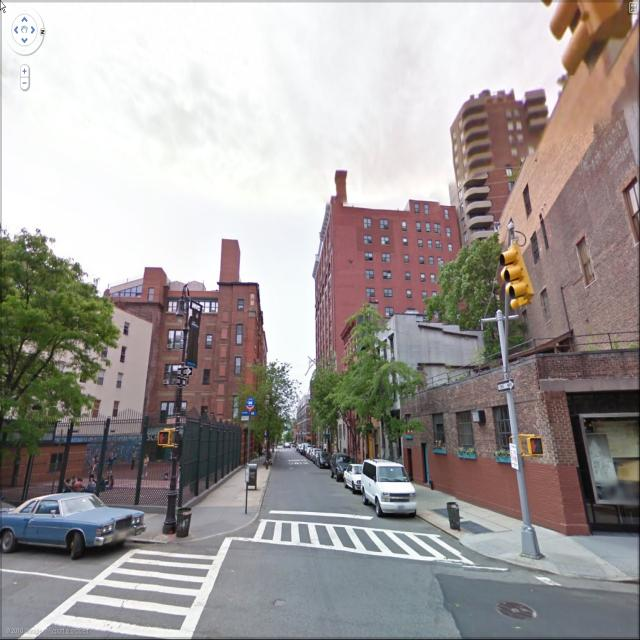b_1: (410, 350, 640, 519), (306, 179, 474, 384), (147, 282, 266, 449), (456, 79, 553, 237)
b_2: (1, 246, 162, 477)
